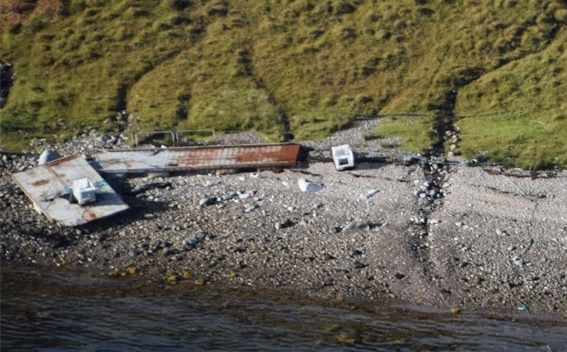cuboid: (91, 130, 305, 181), (11, 146, 135, 233), (322, 136, 367, 177), (63, 170, 103, 209)
tube: (359, 106, 427, 122), (509, 291, 542, 323), (396, 150, 461, 166), (459, 106, 518, 119), (534, 325, 561, 352), (502, 173, 528, 194), (526, 195, 541, 228), (520, 225, 536, 254)
